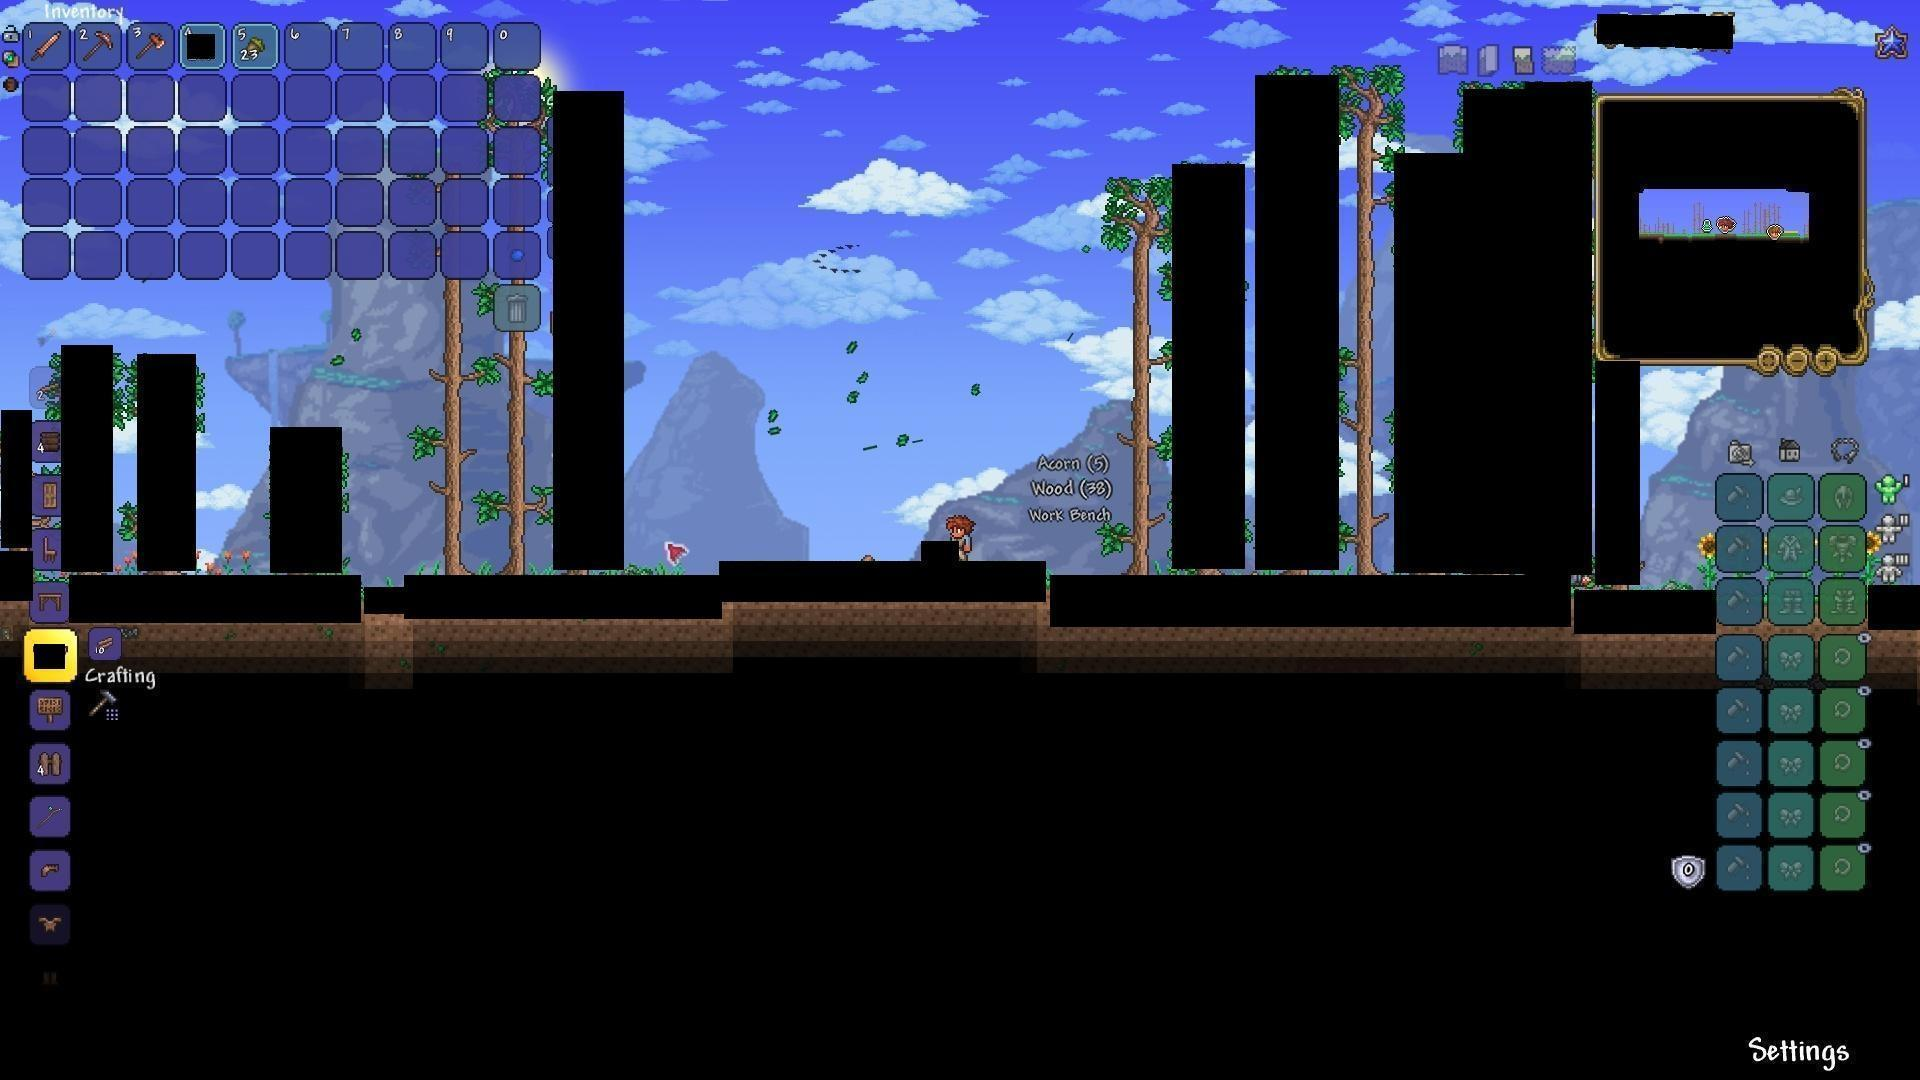breastplate: (34, 914, 71, 934)
helmet: (37, 858, 69, 886)
tree: (1336, 76, 1396, 572), (1102, 174, 1174, 572), (418, 297, 471, 572), (491, 340, 545, 568)
wood: (98, 636, 113, 650)
